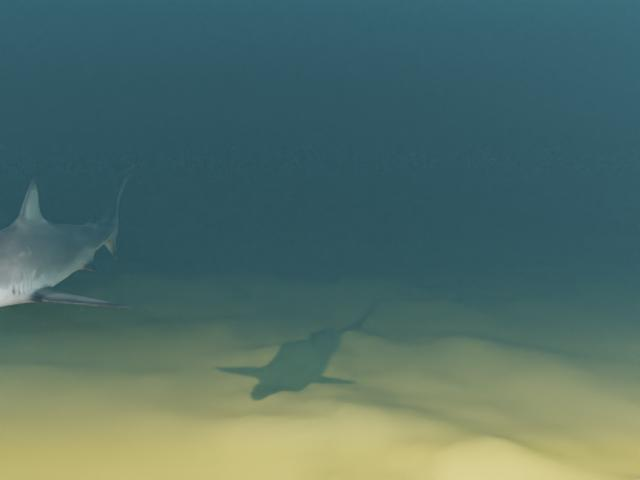Carribean Shark.001: (0, 164, 137, 315)
